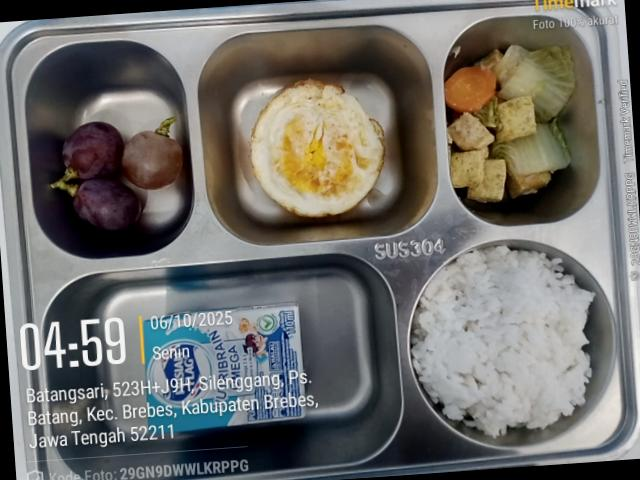buah: (62, 121, 123, 179)
nasi: (411, 246, 594, 436)
sayur: (444, 66, 495, 112)
susu: (143, 303, 307, 431)
tahu: (447, 112, 506, 202)
telur: (250, 79, 384, 216)
